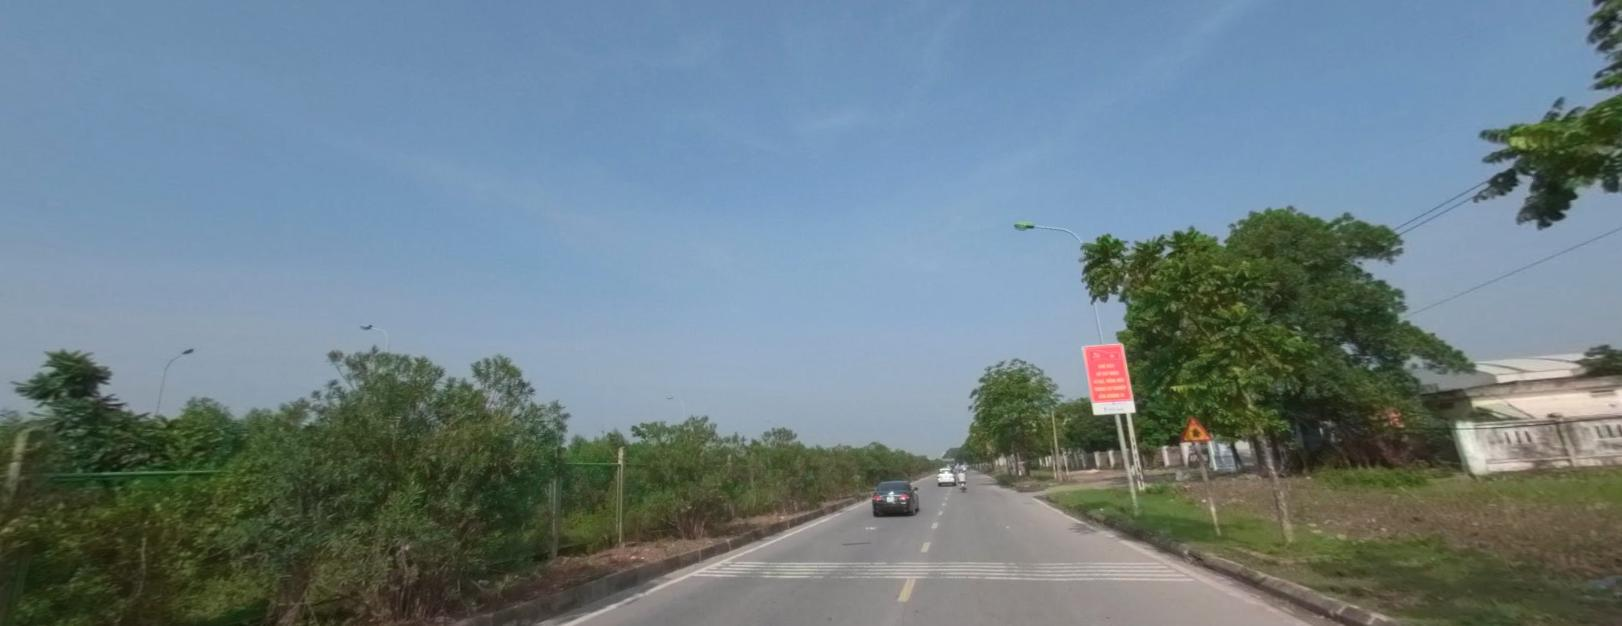Nguy hiem: (1179, 414, 1214, 444)
